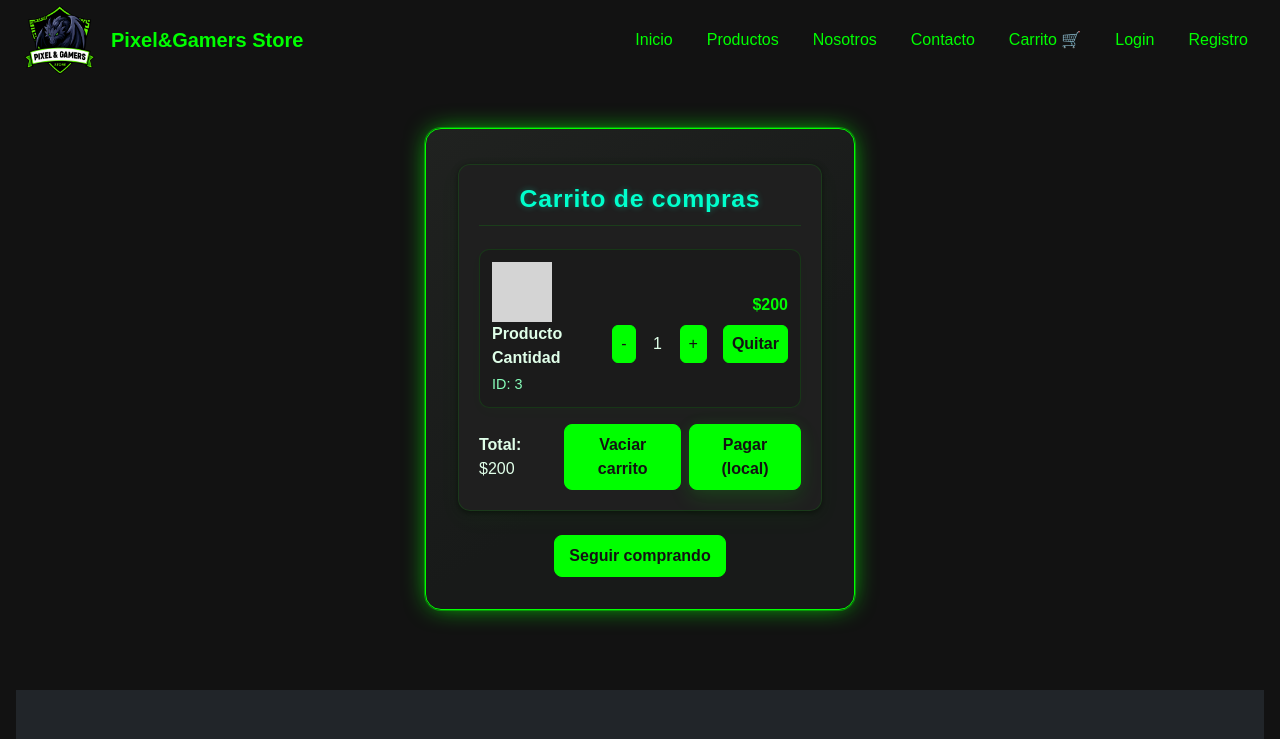
Carrito › actualiza la cantidad de un producto
Click the button "+".
click(693, 344)  # box left=680, top=325, right=707, bottom=363
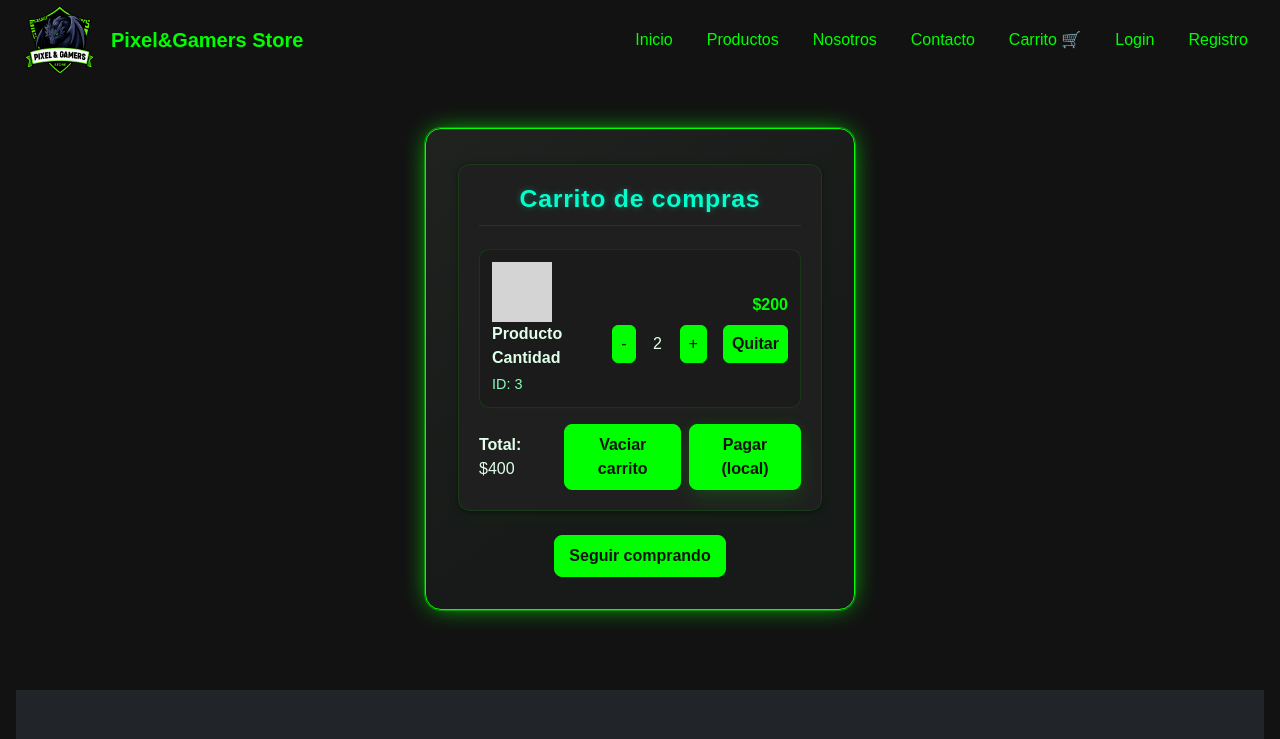
Expected: the text "2" is shown, left=653, top=335, right=662, bottom=352
